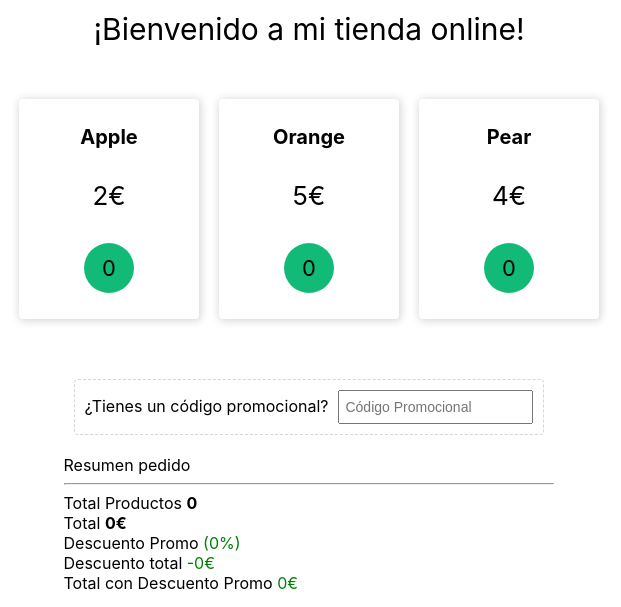
Store › should update the product total when an item is clicked
The image size is (621, 607).
Click the text "Apple" at (109, 137), box [80,125,138,149]
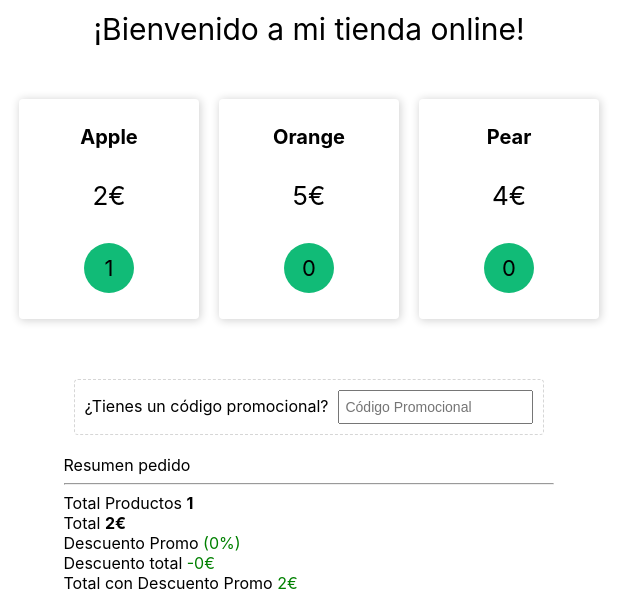
expect the text "Total Productos 1" is shown: met, box [64,493,193,513]
